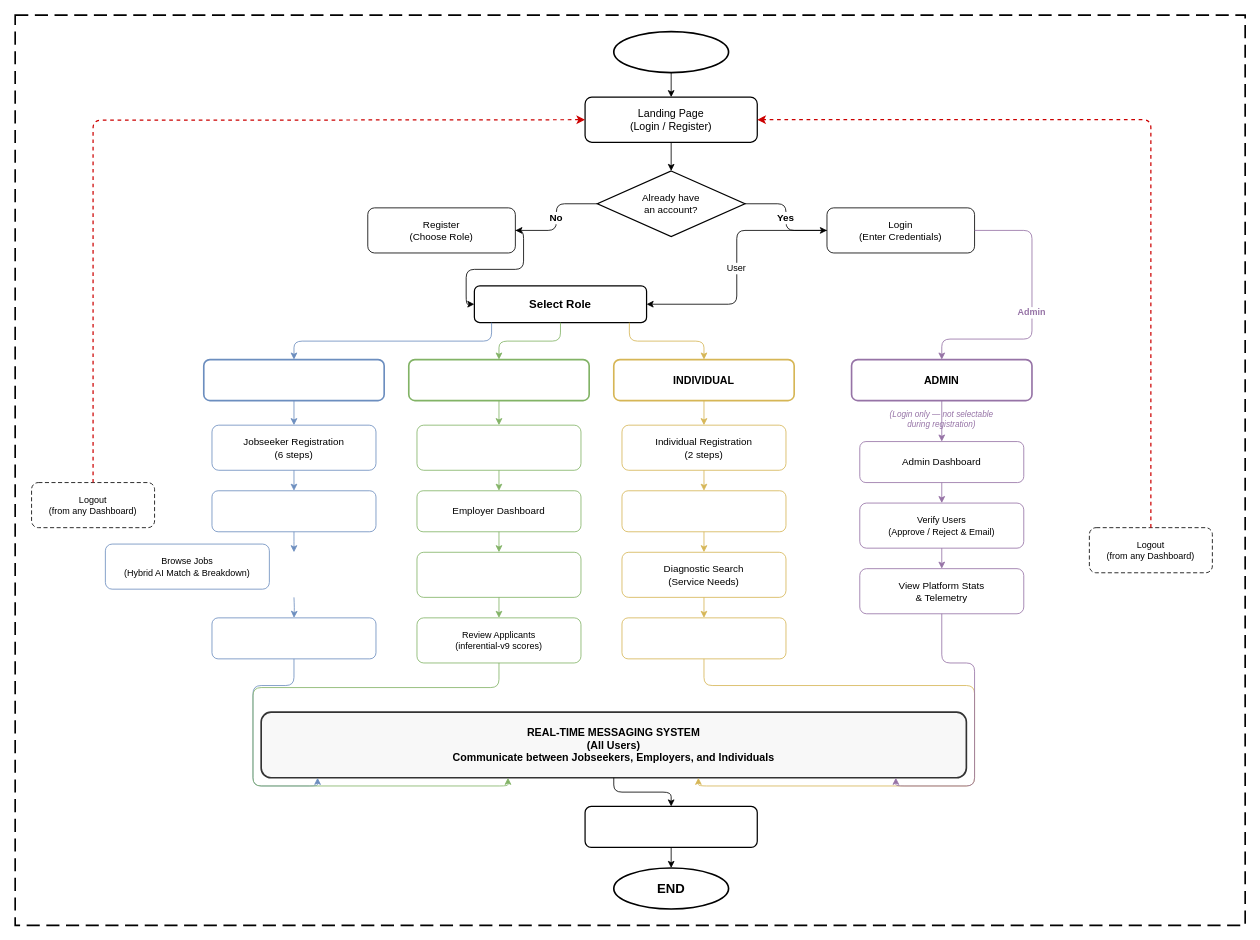
The diagram is 1260 pixels wide and 940 high, and some of its shapes have lost their labels. Each missing label, with the box of its shape:
Apply to Job: (211, 617, 376, 659)
EMPLOYER: (408, 358, 590, 401)
Employer Registration (4 steps): (416, 424, 581, 470)
Individual Dashboard: (621, 490, 786, 532)
JOBSEEKER: (203, 358, 385, 401)
Jobseeker Dashboard: (211, 490, 376, 532)
Logout: (584, 805, 758, 848)
Post Job (AI Skill Recs): (416, 551, 581, 597)
START: (613, 30, 729, 73)
View Matched Workers: (621, 617, 786, 659)
